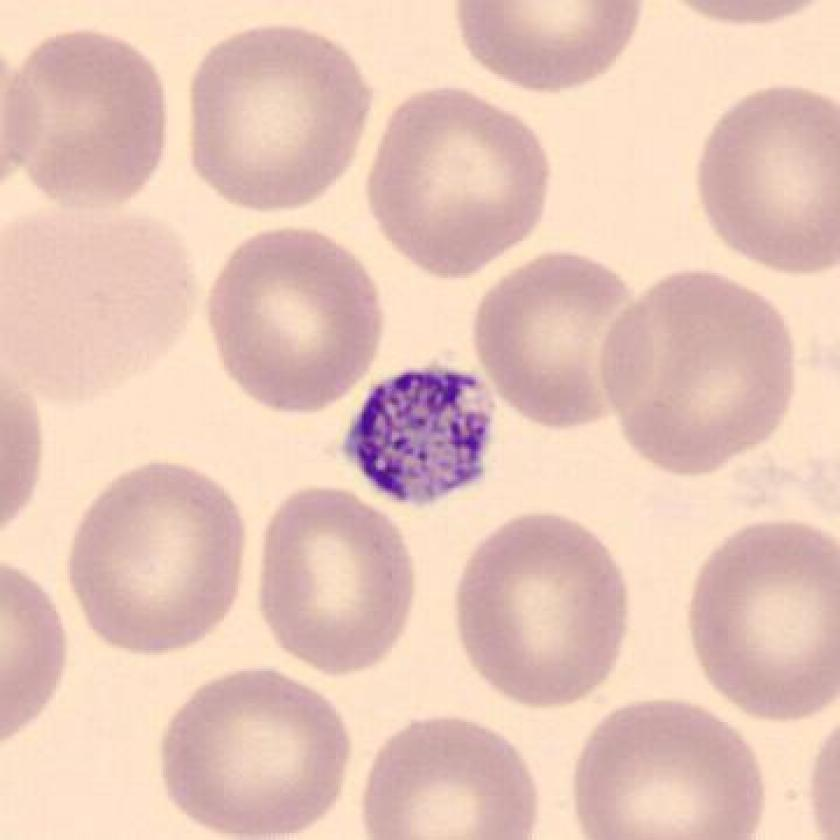platelets: (330, 353, 510, 515)
